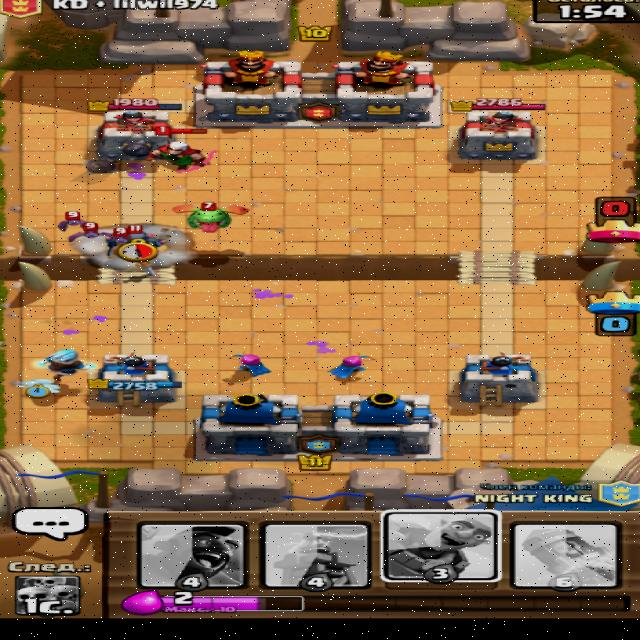Enemy-BabyDragon: (168, 200, 250, 232)
Enemy-Bat: (66, 221, 110, 242), (55, 210, 87, 231), (102, 226, 131, 244)
Enemy-MagicArcher: (142, 125, 219, 173)
Enemy-MiniPEKKA: (103, 223, 167, 256)
Player-Archer: (324, 350, 375, 380), (224, 348, 273, 378)
Player-IceWizard: (29, 347, 97, 387)
